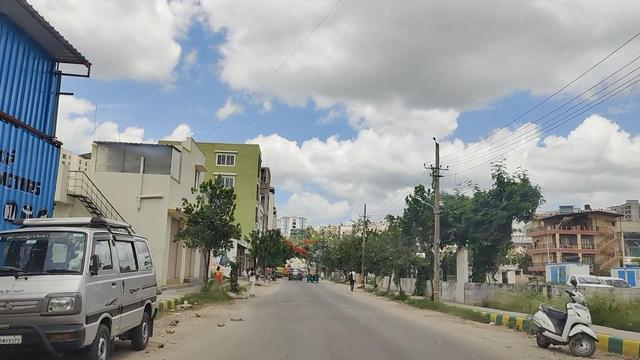LMV: (0, 199, 100, 360), (530, 274, 586, 358)
